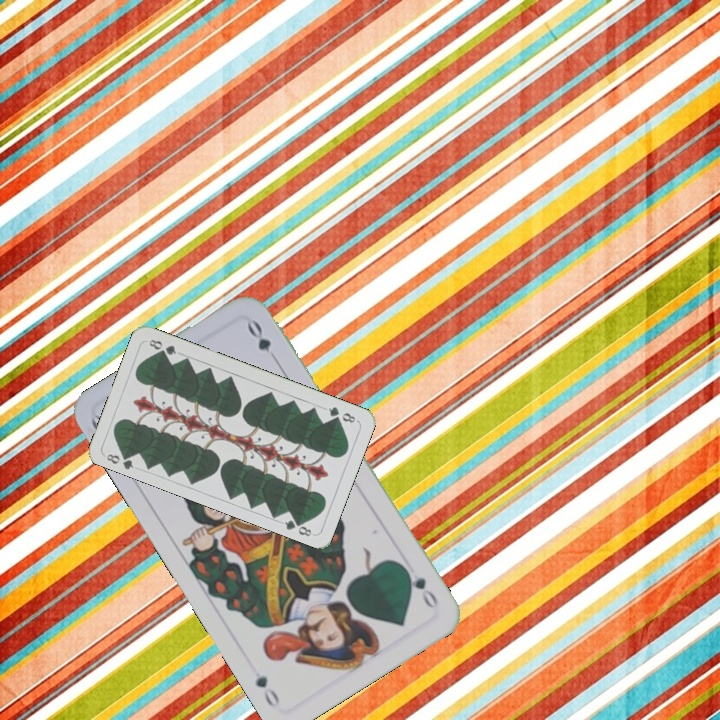G8: (102, 448, 136, 472), (324, 403, 358, 426)
GO: (399, 563, 441, 613)
